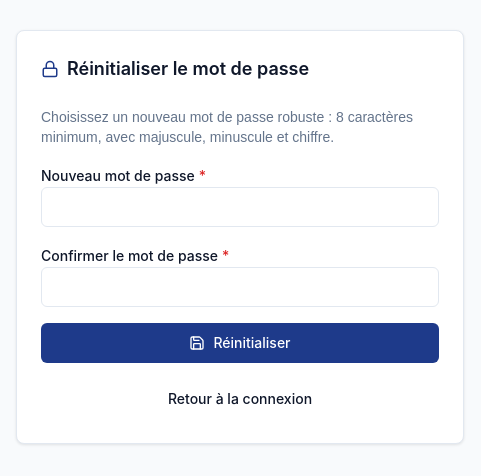
Test: page reset-password › refuse un mot de passe trop faible avant l’appel API
This screenshot has width=481, height=476.
In the password field labelled "Nouveau mot de passe*": point(240, 207) [41, 187, 439, 227], type "court"
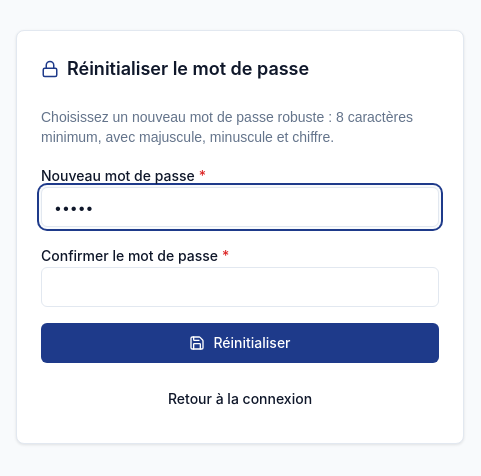
In the password field labelled "Confirmer le mot de passe*": point(240, 287) [41, 267, 439, 307], type "court"
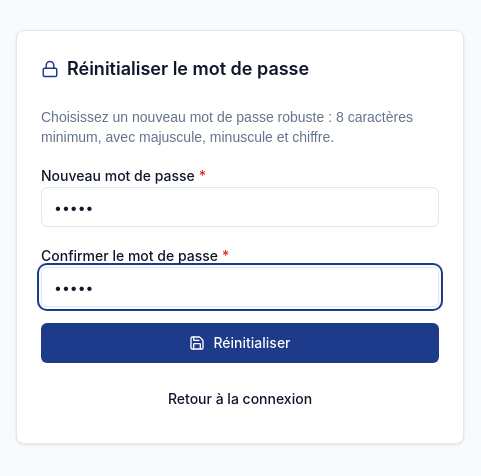
Click the button "Réinitialiser": point(240, 343) [41, 323, 439, 363]
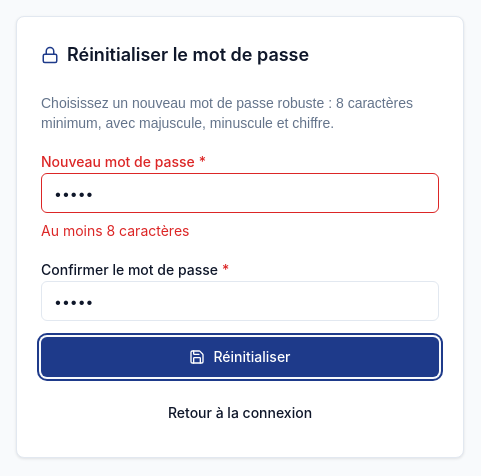
expect the text "Au moins 8 caractères" is shown: met, box [41, 222, 190, 239]
